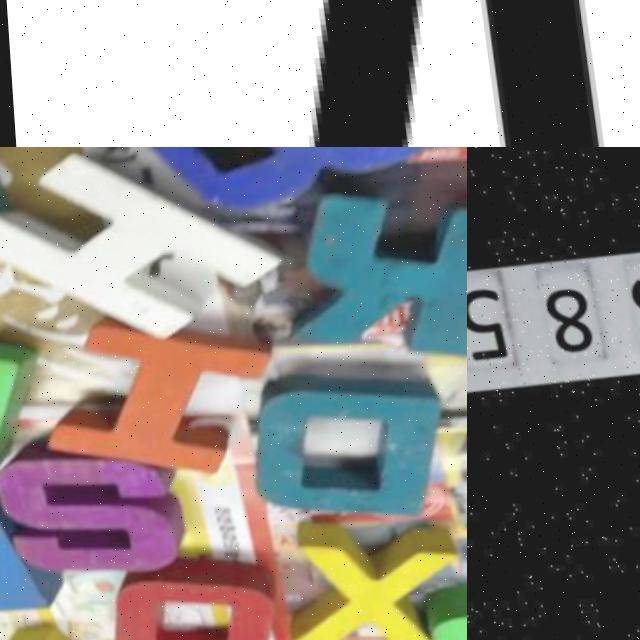5: (467, 265, 531, 383)
8: (524, 264, 616, 374), (606, 247, 640, 369)
D: (244, 362, 441, 522)
H: (0, 147, 275, 349)
I: (26, 311, 255, 480), (467, 0, 640, 147), (302, 0, 415, 147)
K: (270, 164, 467, 361)
O: (99, 564, 275, 640)
S: (0, 441, 177, 579)
X: (275, 520, 454, 640)
